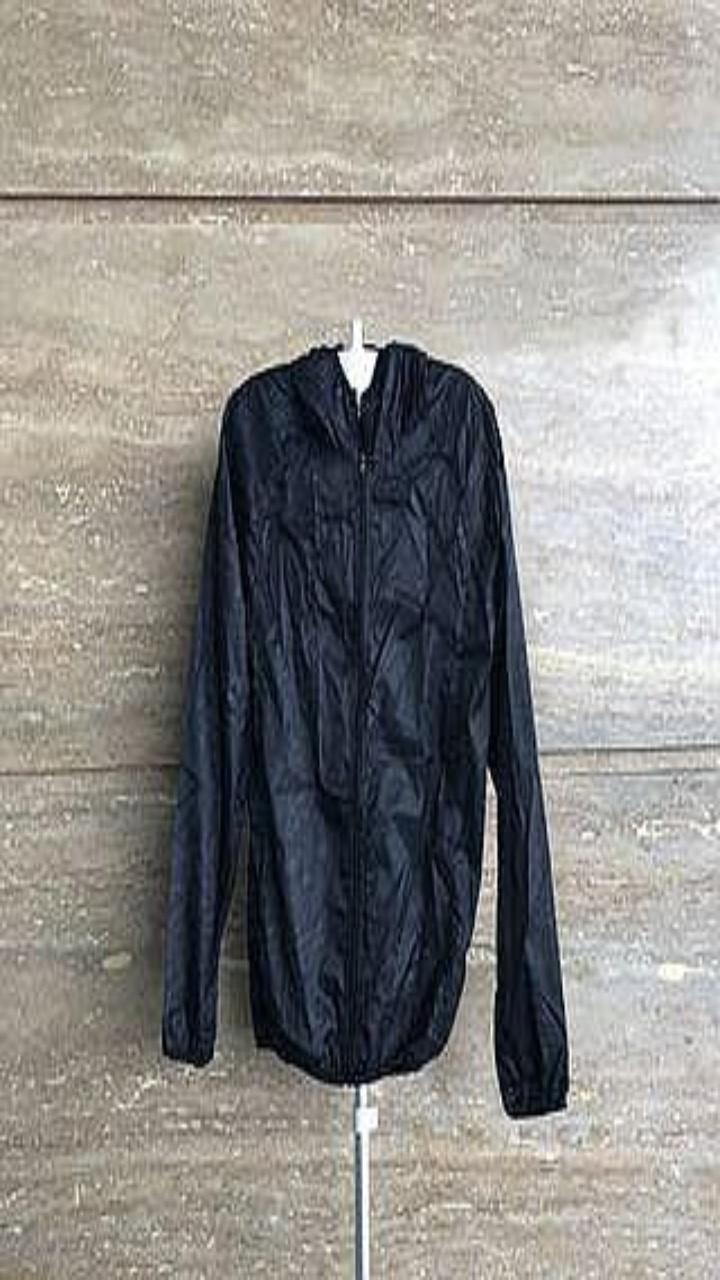Sports_Jacket: (162, 340, 568, 1116)
